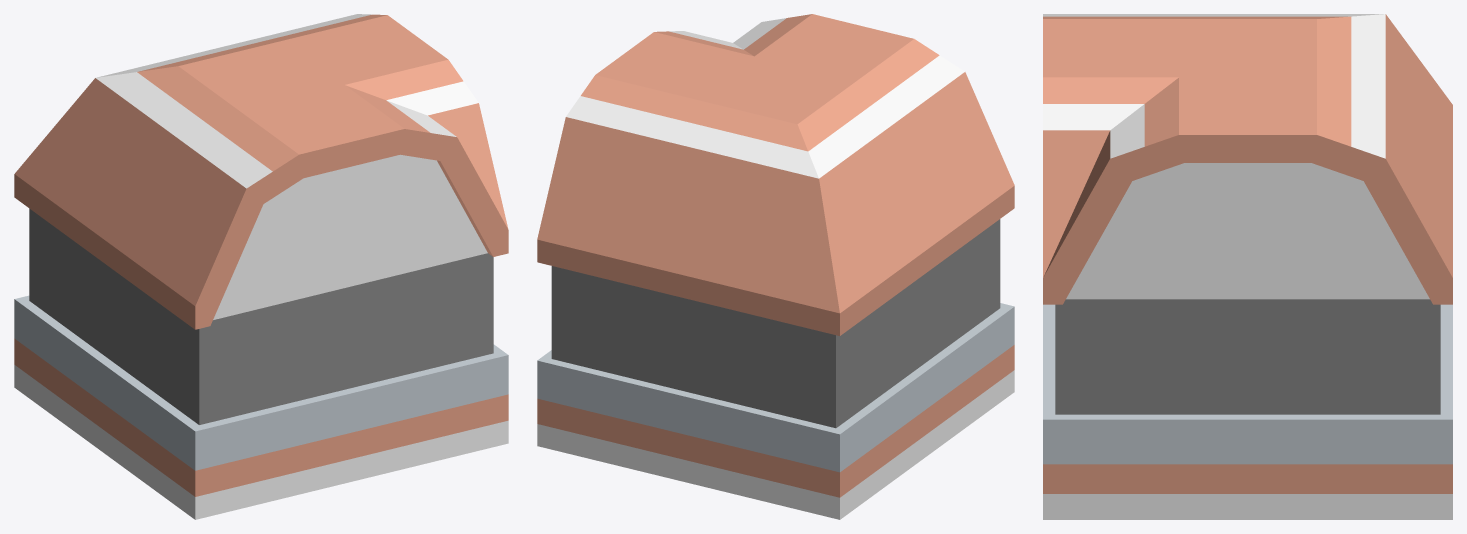
Rendered from buildingCorner.fbx.
3 renders of one model, left to right at view 1: azimuth 30°, elevation 25°; view 2: azimuth 150°, elevation 25°; view 3: azimuth 270°, elevation 25°, orthographic. The views are drawn at different scales.
Parts seen in each view (by area): view 1: buildingCorner; view 2: buildingCorner; view 3: buildingCorner.
Part boxes in pixels (box(x1,y1,x2,y2)): buildingCorner: box(14, 14, 508, 519); buildingCorner: box(537, 14, 1014, 519); buildingCorner: box(1043, 14, 1452, 519).
Size of the model in its own units: 1000 by 1037 by 1000.
